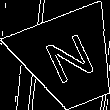N_SE: (39, 30, 100, 91)
